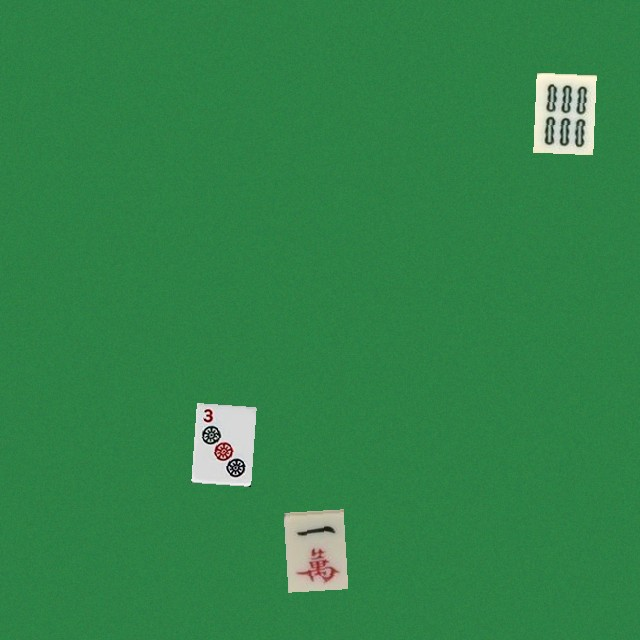tile: (191, 402, 251, 482), (283, 509, 343, 589), (533, 72, 593, 152)
